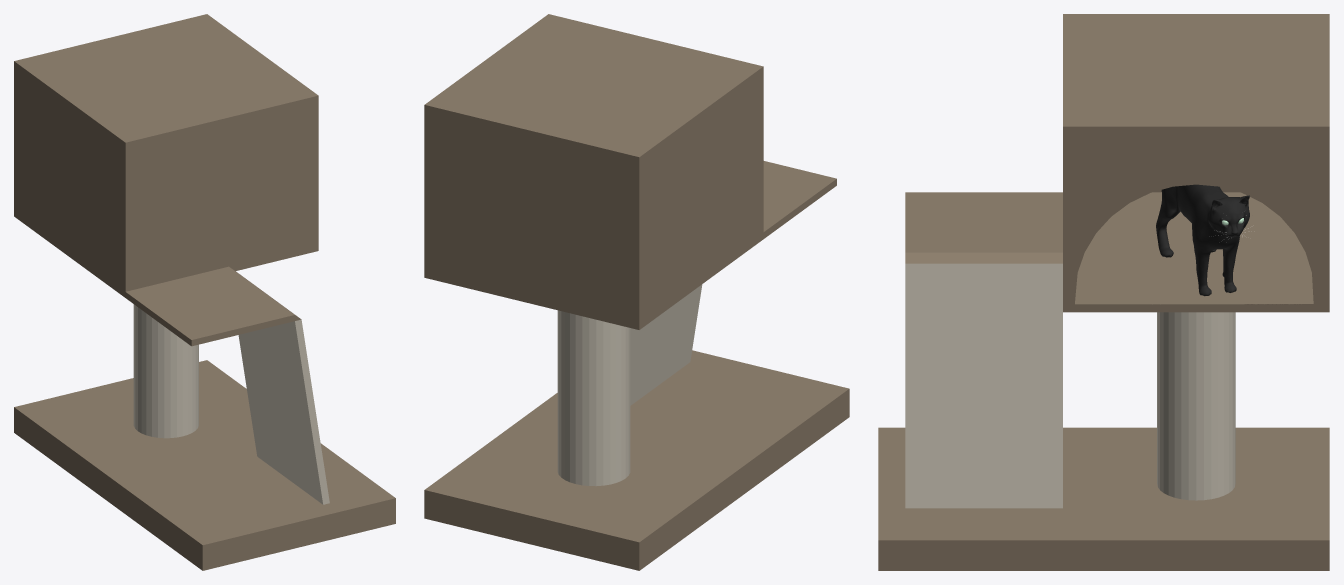
The model's file is RoroRoomCat.glb.
The picture shows the model from 3 angles, left to right: view 1: azimuth 30°, elevation 25°; view 2: azimuth 150°, elevation 25°; view 3: azimuth 270°, elevation 25°; orthographic projection. The views are drawn at different scales.
Parts seen in each view (by area): view 1: Cube.008; view 2: Cube.008; view 3: Cube.008.
Boxes of the visible parts, x1=… form: Cube.008: x1=14, y1=14, x2=395, y2=570; Cube.008: x1=424, y1=14, x2=849, y2=570; Cube.008: x1=878, y1=14, x2=1329, y2=570.
Size of the model in its own units: 0.7597 by 1.22 by 1.12.
